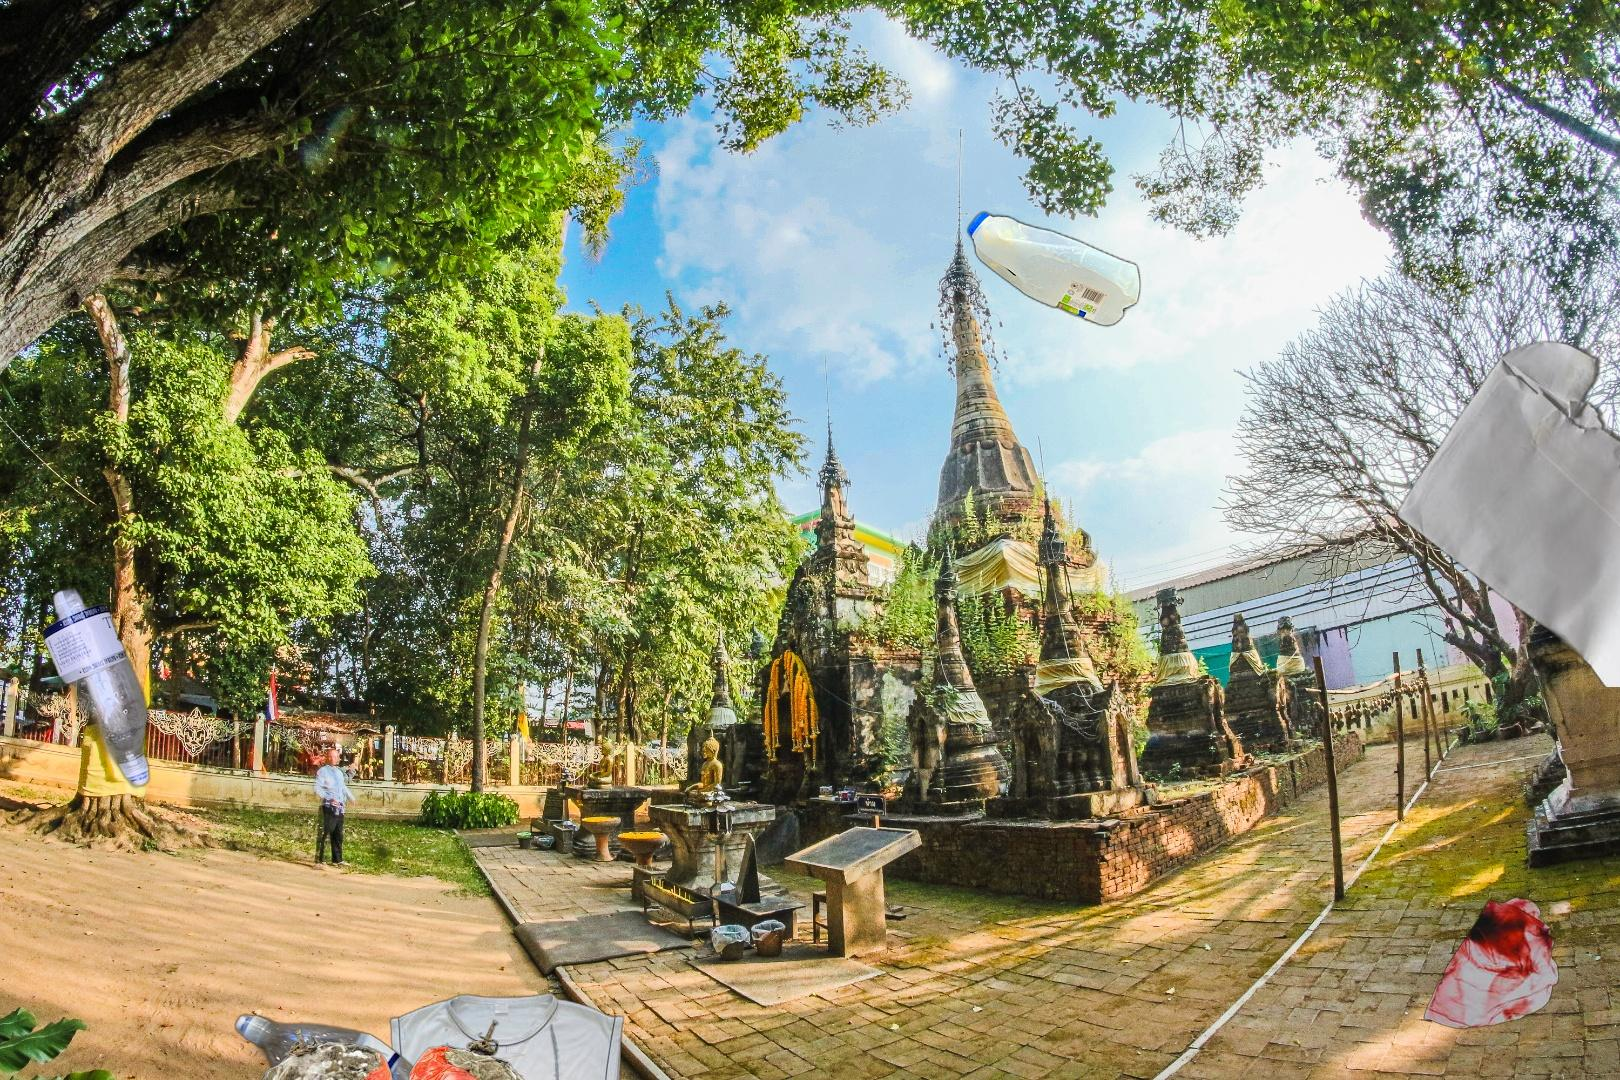biological: (251, 1017, 538, 1080)
clothes: (369, 988, 636, 1080)
paper: (1395, 337, 1620, 687)
penholder: (1534, 710, 1620, 1080)
plastic-bag: (1421, 894, 1562, 1032)
plastic-bottles: (39, 581, 182, 793), (962, 205, 1145, 331), (233, 1009, 425, 1080)
